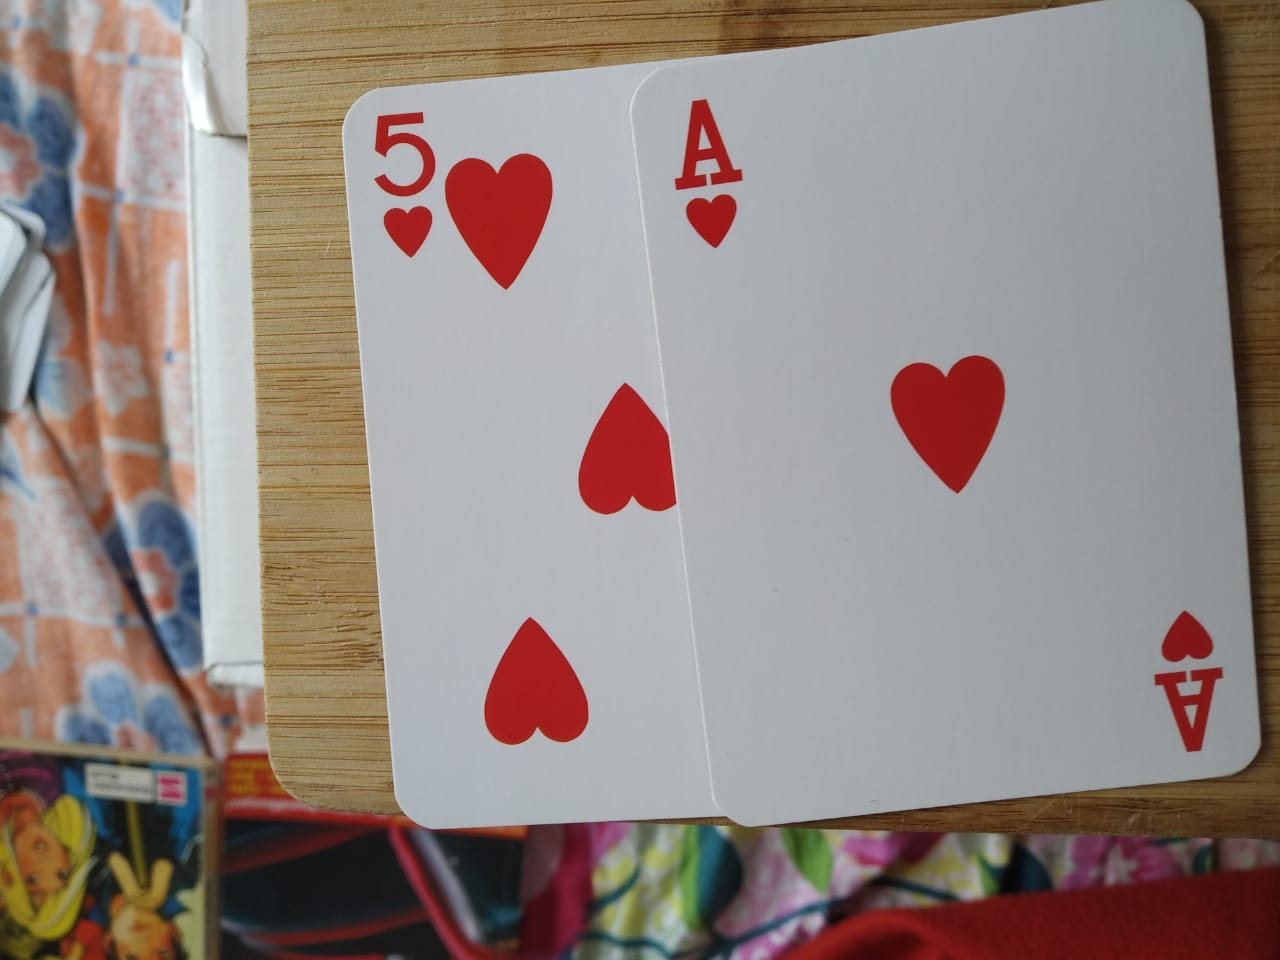ace: (607, 1, 1267, 820)
five: (330, 53, 1055, 837)
